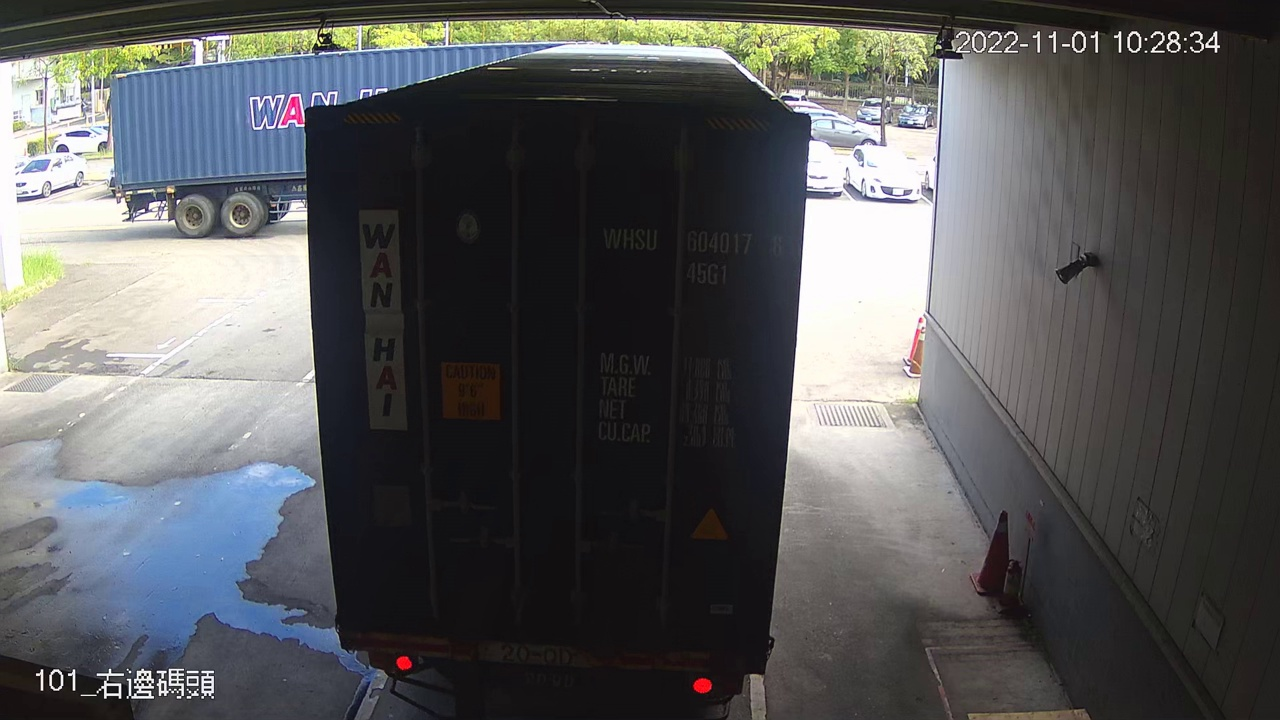container: (590, 213, 793, 290)
